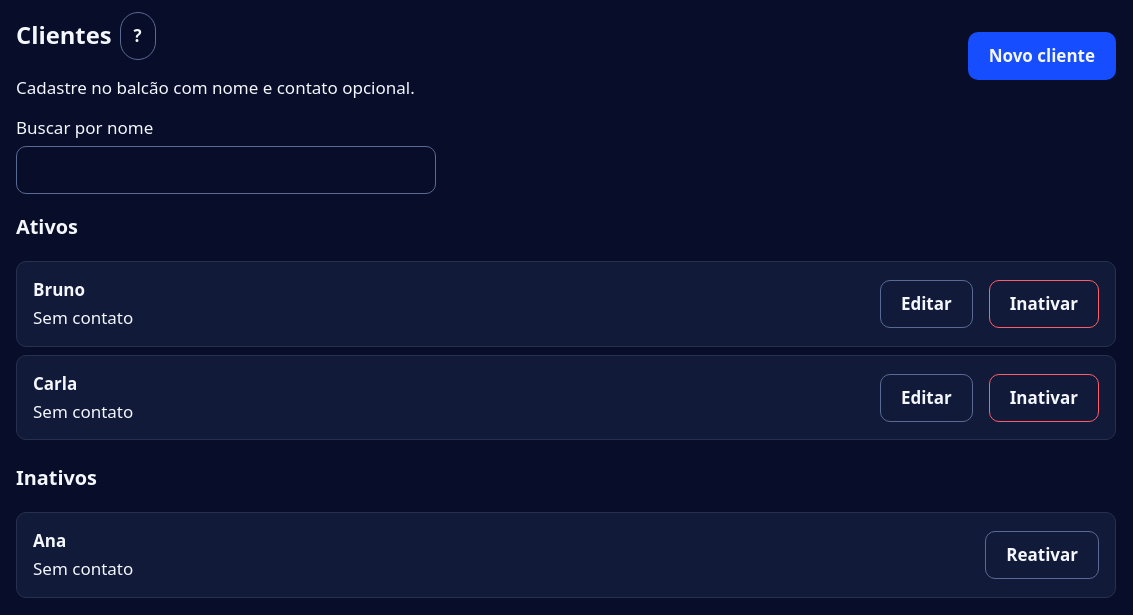
Test: cadastro na tela › a lista continua em ordem alfabética depois de reativar, que devolve o cliente no fim
Click the button "Reativar" at (1042, 555), box top-left (985, 531), bottom-right (1099, 579)
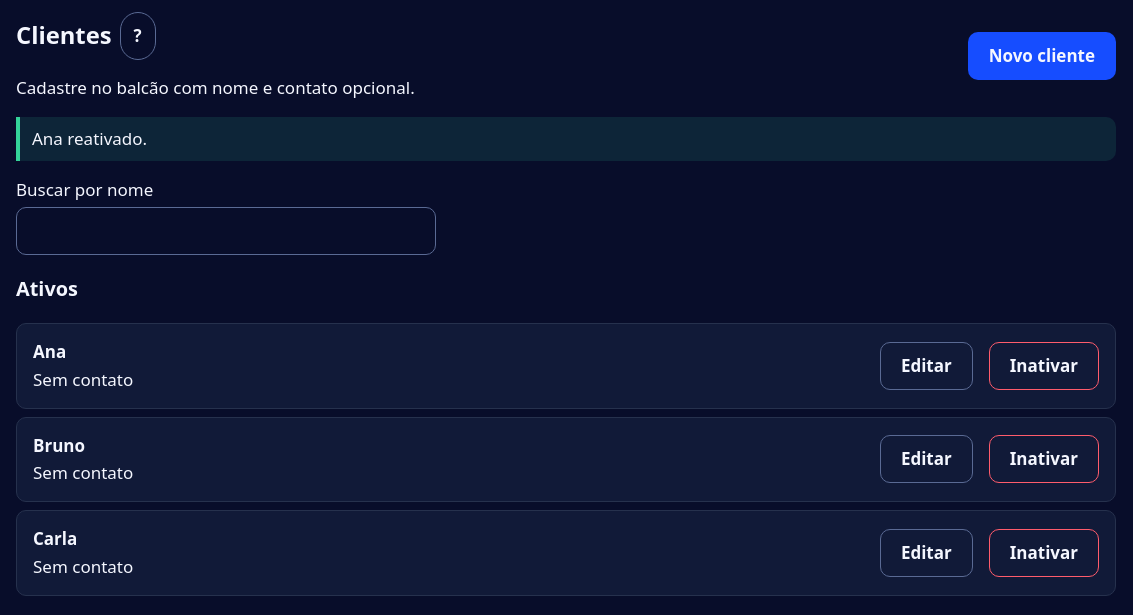
Expected: the text "Ana reativado." is shown, top-left (16, 117), bottom-right (1116, 161)
